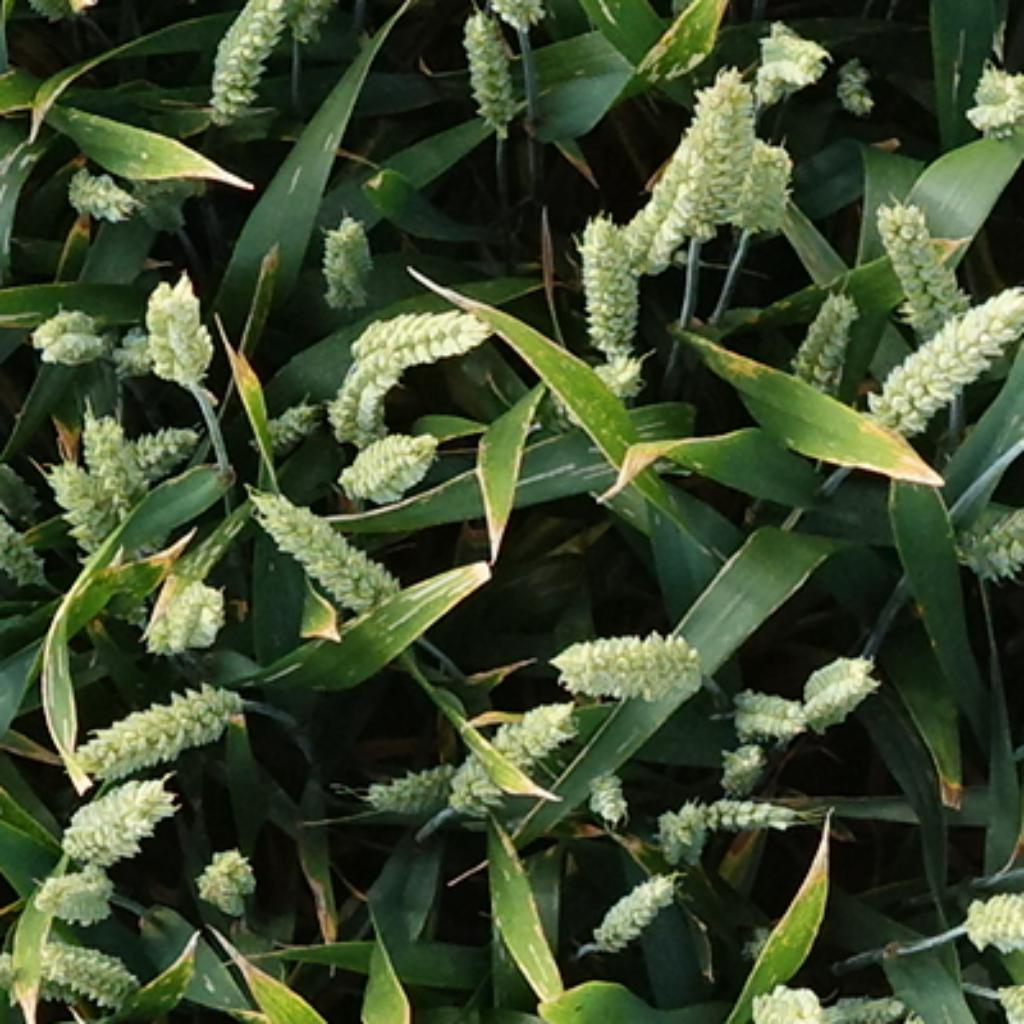0-0: (609, 81, 755, 273), (865, 279, 1024, 440), (243, 476, 404, 614), (872, 186, 975, 391), (66, 668, 250, 773), (45, 469, 156, 619), (199, 2, 320, 125), (680, 51, 757, 243), (450, 701, 576, 816), (550, 624, 716, 709), (568, 199, 655, 353), (53, 765, 179, 860), (673, 785, 819, 857), (9, 931, 145, 1008), (83, 417, 165, 539), (453, 10, 529, 130), (140, 273, 220, 386), (338, 311, 496, 367), (947, 473, 1024, 586), (588, 862, 683, 952), (335, 427, 442, 504), (324, 353, 403, 455), (140, 568, 232, 655), (783, 281, 857, 386), (360, 744, 471, 814), (791, 645, 880, 729), (750, 20, 829, 99), (957, 58, 1024, 143), (122, 414, 204, 483), (737, 140, 796, 235), (28, 857, 117, 919), (64, 161, 143, 225), (744, 967, 832, 1024), (189, 847, 258, 916), (729, 683, 808, 742), (957, 893, 1024, 955), (256, 389, 322, 450), (314, 225, 363, 307), (583, 340, 647, 399), (2, 509, 48, 583), (819, 985, 906, 1024), (25, 309, 112, 348), (829, 53, 880, 117), (112, 322, 168, 376), (716, 747, 773, 798), (583, 765, 629, 824), (660, 801, 704, 862), (340, 212, 378, 279), (38, 332, 112, 366), (471, 2, 555, 28), (136, 186, 180, 231)
